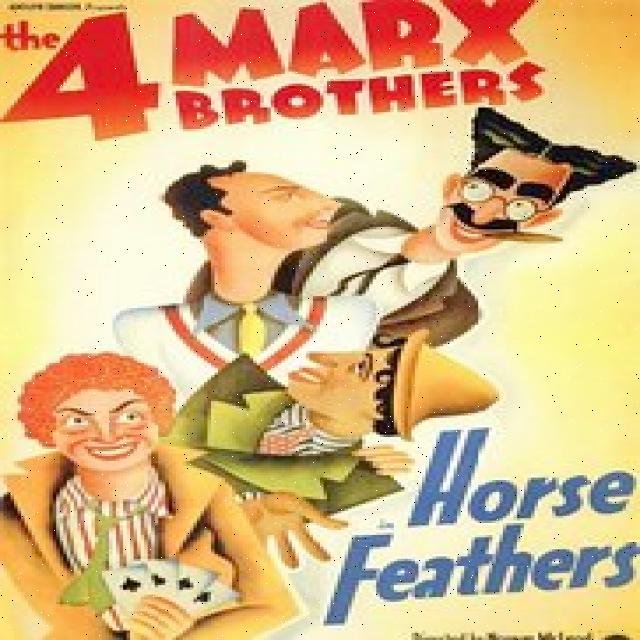movie-judul: (2, 2, 564, 127)
picture: (0, 108, 637, 637)
